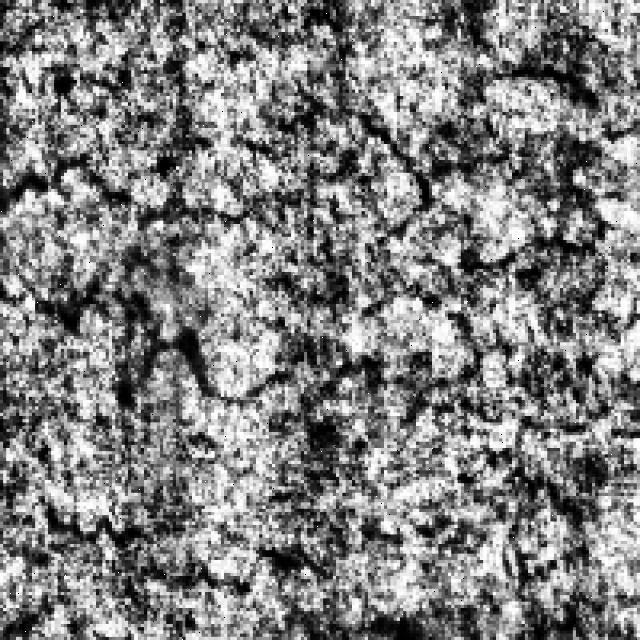Pitted_Surface: (307, 0, 637, 250), (6, 144, 285, 438), (237, 464, 608, 634)
